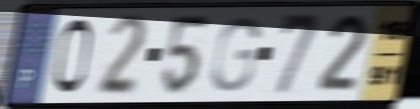0: (52, 15, 93, 96)
2: (94, 12, 150, 100), (314, 11, 372, 95)
5: (158, 12, 214, 99)
7: (276, 10, 322, 97)
G: (208, 15, 262, 95)
